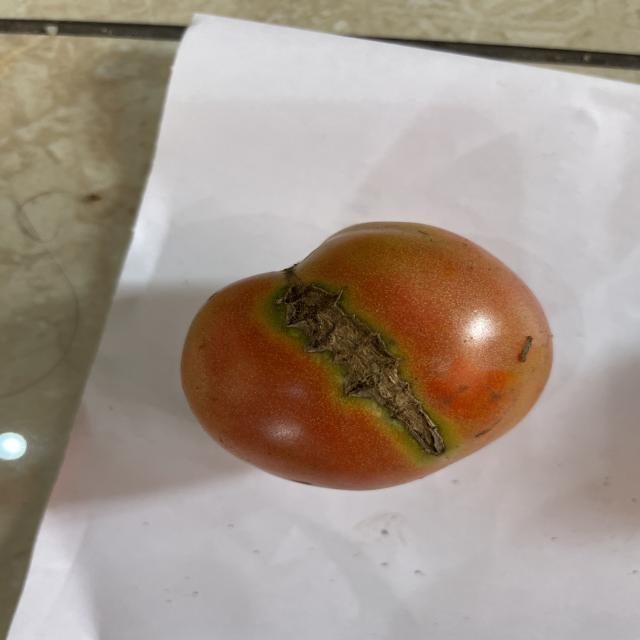tomato_cracking: (260, 270, 460, 464)
